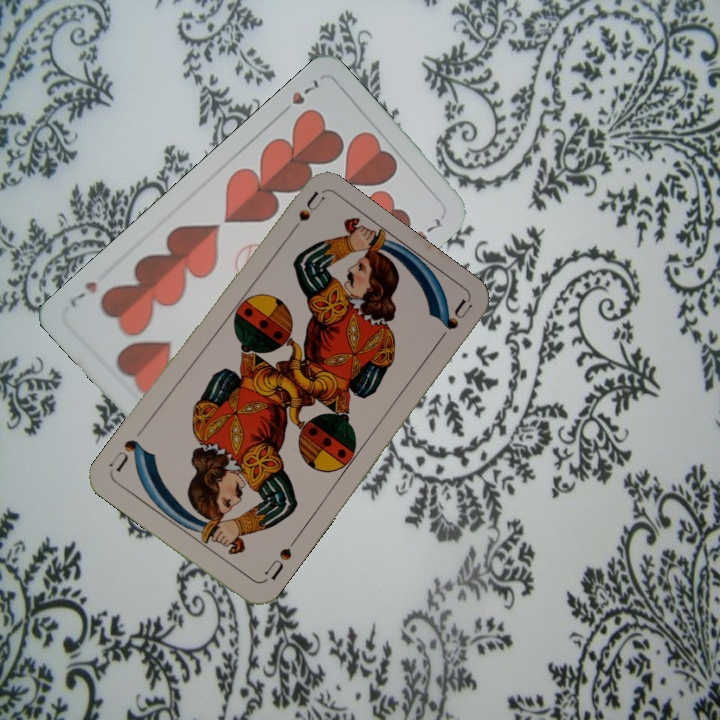H7: (275, 74, 322, 119)
SU: (282, 189, 327, 242), (260, 534, 299, 583)
